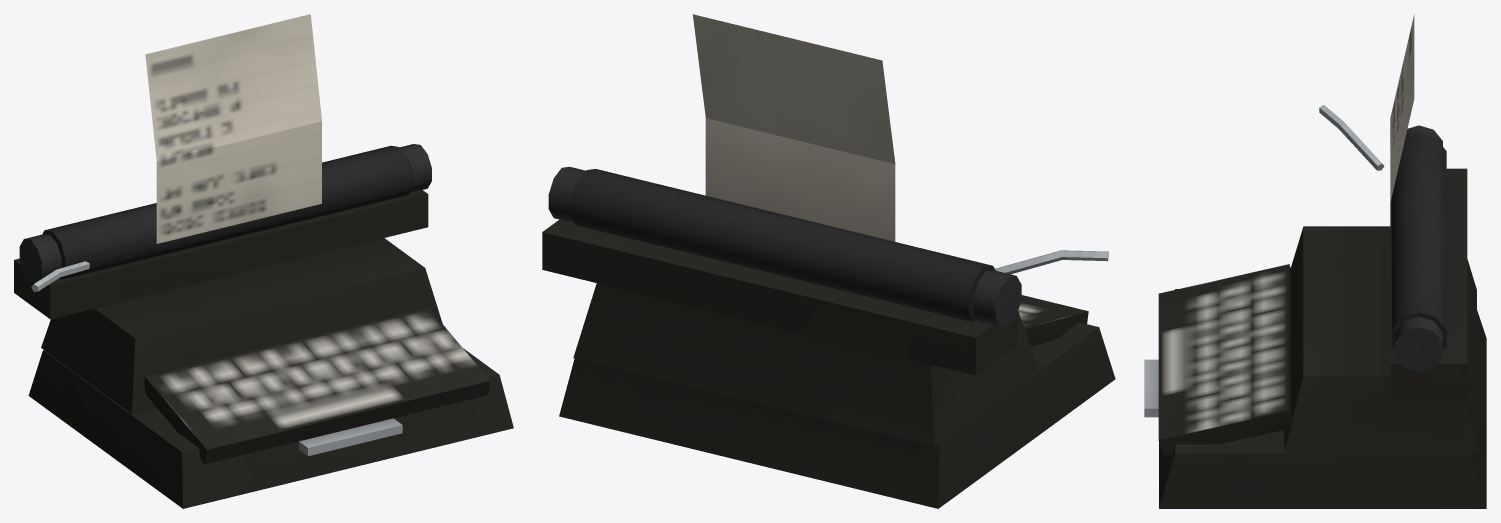
The model's file is typewriter.glb.
3 renders of one model, left to right at view 1: azimuth 30°, elevation 25°; view 2: azimuth 150°, elevation 25°; view 3: azimuth 270°, elevation 25°, orthographic. The views are drawn at different scales.
Visible parts, largest first — view 1: typewriter; view 2: typewriter; view 3: typewriter.
Part boxes in pixels (x1,y1,x2,y2): typewriter: [14, 14, 513, 508]; typewriter: [542, 14, 1115, 508]; typewriter: [1144, 14, 1486, 508].
Size of the model in its own units: 0.5497 by 0.42 by 0.355.
Materials: 1 (1 with a texture image).
